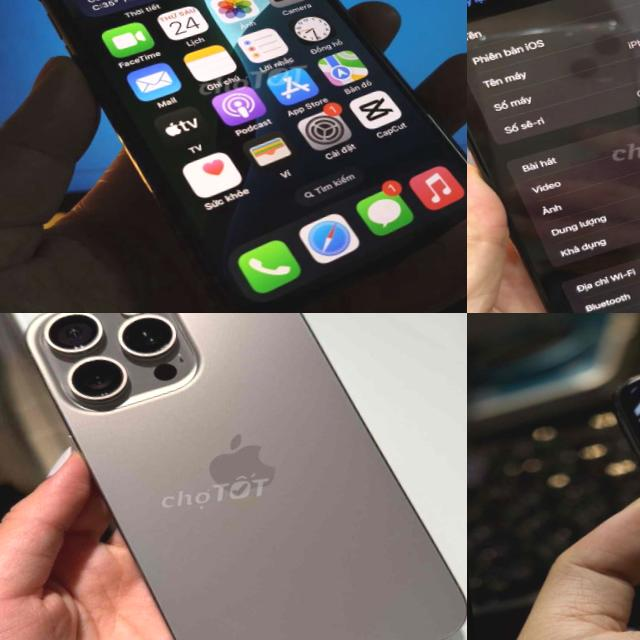scratch: (39, 313, 197, 411)
